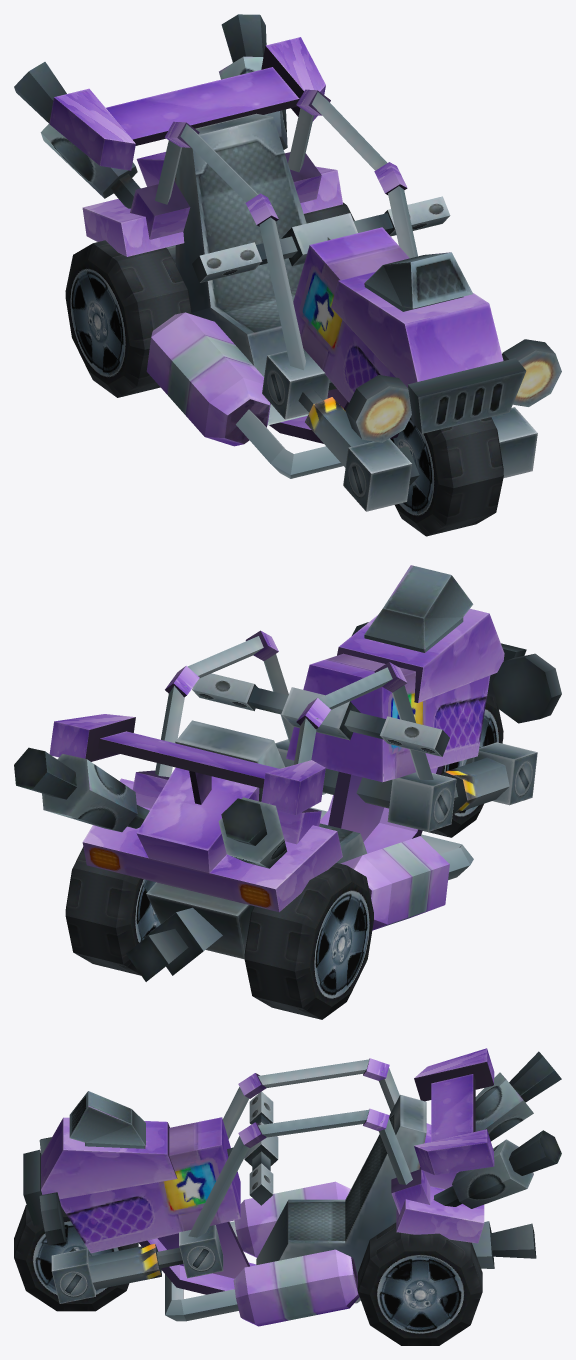
File: Mabel_AI.glb
The picture shows the model from 3 angles, top to bottom: view 1: azimuth 30°, elevation 25°; view 2: azimuth 150°, elevation 25°; view 3: azimuth 270°, elevation 25°; orthographic projection. The views are drawn at different scales.
Parts seen in each view (by area): view 1: kart_mabel, right_wheel, front_wheel; view 2: kart_mabel, right_wheel, left_wheel, front_wheel; view 3: kart_mabel, left_wheel, front_wheel.
Boxes of the visible parts, <box> form: kart_mabel: <box>14,14,561,511</box>; right_wheel: <box>65,240,192,397</box>; front_wheel: <box>390,417,503,536</box>; kart_mabel: <box>14,565,561,981</box>; right_wheel: <box>244,863,373,1019</box>; left_wheel: <box>65,847,160,975</box>; front_wheel: <box>423,695,503,837</box>; kart_mabel: <box>23,1048,561,1326</box>; left_wheel: <box>358,1222,482,1345</box>; front_wheel: <box>14,1205,138,1311</box>.
Bounding box in the file's own units: 1.95 × 2.06 × 4.68.
Materials: 1 (1 with a texture image).
